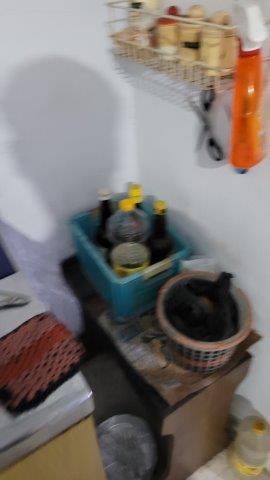botolkaca: (83, 179, 179, 270)
